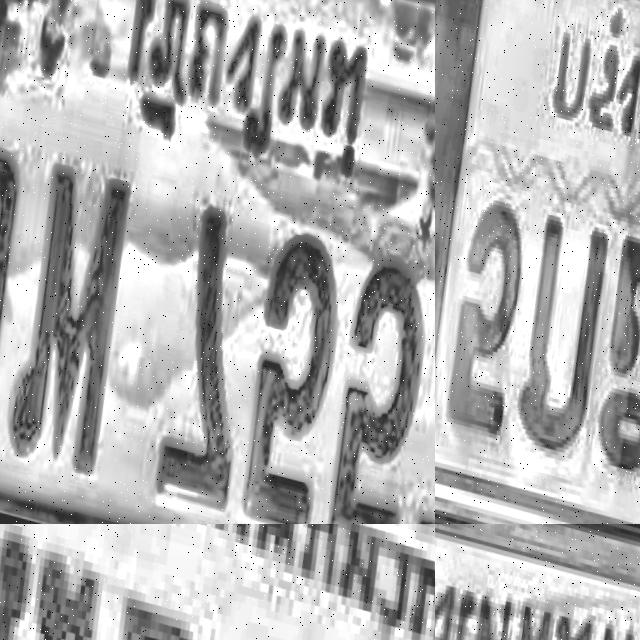license-plate: (0, 0, 435, 524), (435, 0, 640, 524), (0, 524, 435, 640), (435, 524, 640, 640)
